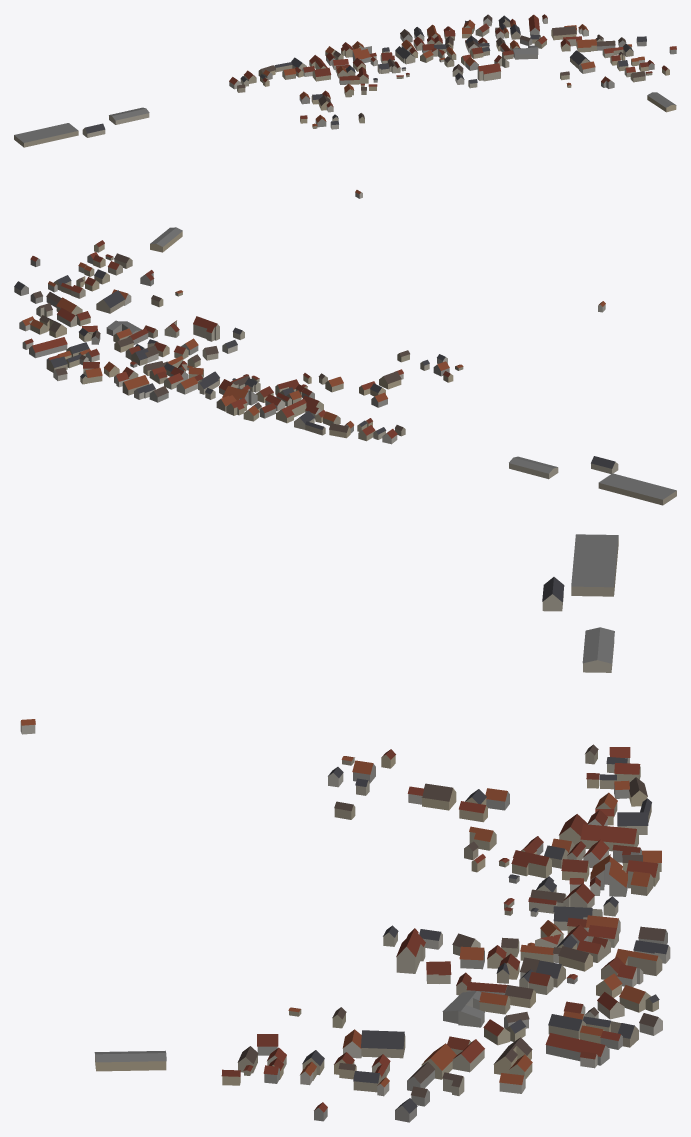
The picture shows the model from 3 angles, top to bottom: view 1: azimuth 30°, elevation 25°; view 2: azimuth 150°, elevation 25°; view 3: azimuth 270°, elevation 25°; orthographic projection. The views are drawn at different scales.
Parts seen in each view (by area): view 1: buildings; view 2: buildings; view 3: buildings.
Part boxes in pixels (<box>): buildings: <box>14,14,676,198</box>; buildings: <box>14,227,676,505</box>; buildings: <box>20,534,670,1122</box>.
Bounding box in the file's own units: 791 × 24.44 × 378.
